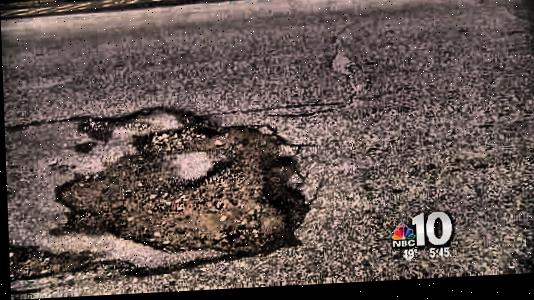pothole: (44, 103, 307, 263)
